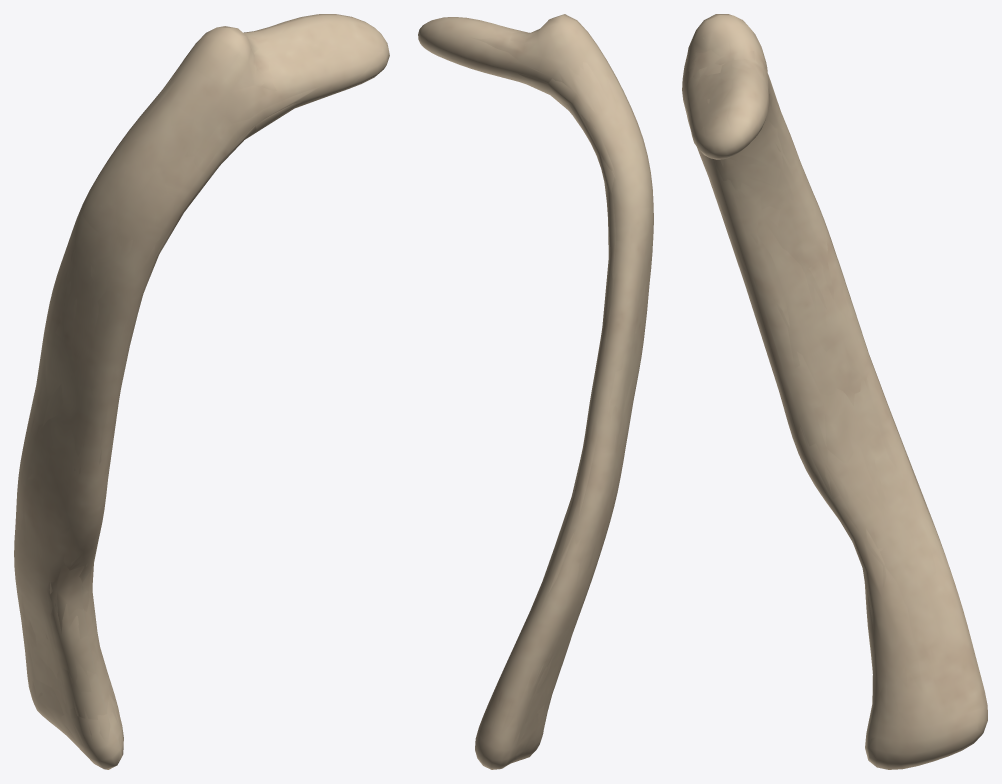
Rendered from Rib R01.fbx.
3 views of the same model, side by side, from view 1: azimuth 30°, elevation 25°; view 2: azimuth 150°, elevation 25°; view 3: azimuth 270°, elevation 25° (orthographic). The views are drawn at different scales.
Visible parts, largest first — view 1: Rib R01 high, Rib R01, Rib R01 low; view 2: Rib R01 high, Rib R01, Rib R01 low; view 3: Rib R01, Rib R01 low, Rib R01 high.
Part boxes in pixels (x1=…): Rib R01 high: x1=14, y1=14, x2=389, y2=768; Rib R01: x1=14, y1=14, x2=389, y2=769; Rib R01 low: x1=21, y1=31, x2=301, y2=739; Rib R01 high: x1=419, y1=15, x2=653, y2=769; Rib R01: x1=418, y1=14, x2=653, y2=769; Rib R01 low: x1=509, y1=29, x2=632, y2=762; Rib R01: x1=682, y1=14, x2=987, y2=769; Rib R01 low: x1=685, y1=37, x2=931, y2=706; Rib R01 high: x1=682, y1=14, x2=987, y2=768.
Bounding box in the file's own units: 5.56 × 14.48 × 5.21.
1 material, 1 textured.
